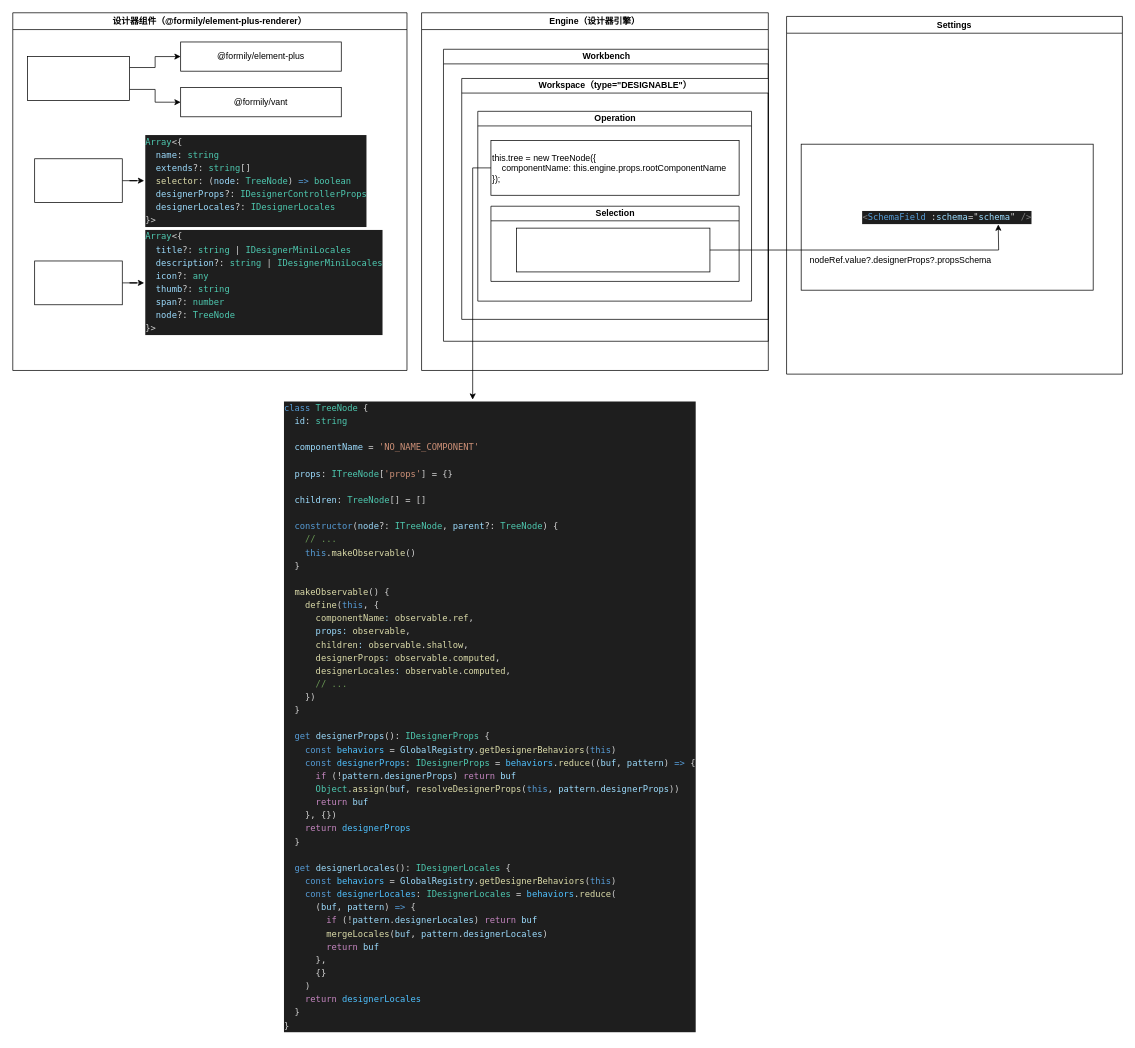
This 1135x1048 diagram has some shape labels left out. The shapes that lost their labels are listed below. From the top down, each one's centre as x and y in pixels, then its label:
At pixel 78 78: "业务组件".
At pixel 78 180: "Behavior".
At pixel 613 249: "selected: TreeNodeId[]".
At pixel 78 282: "Resource".
